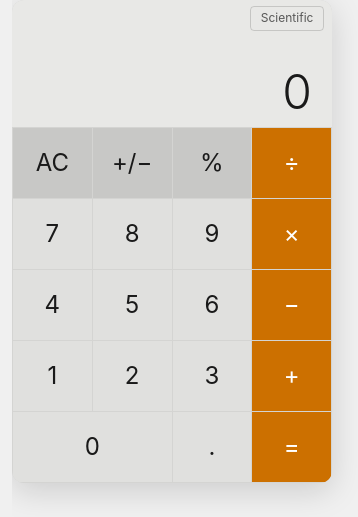
it: Calculator › digit input via clicks › starts new number with 0. when decimal pressed after operator
Click the button "5".
click(132, 305)  # box [93,270,172,340]
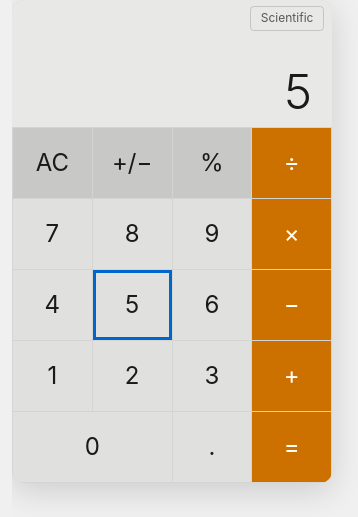
Click the button named "Add".
click(292, 376)  # box [252,341,331,411]
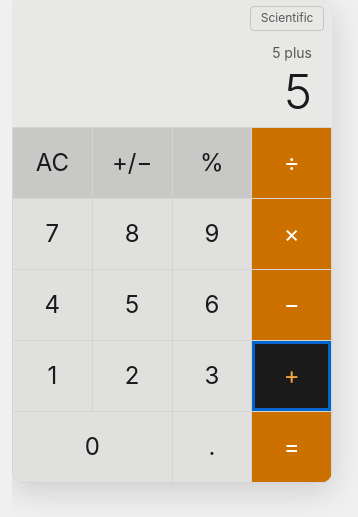
Click the button named "Decimal point".
click(212, 447)  # box [172,412,251,482]
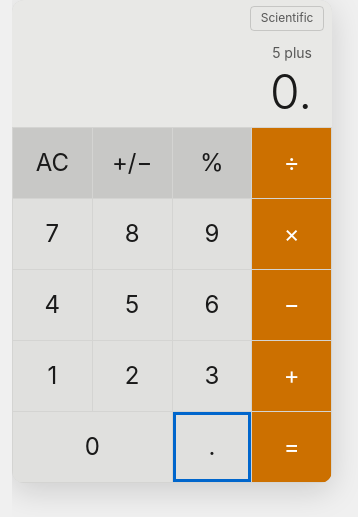
Click the button "5".
click(132, 305)  # box [93,270,172,340]
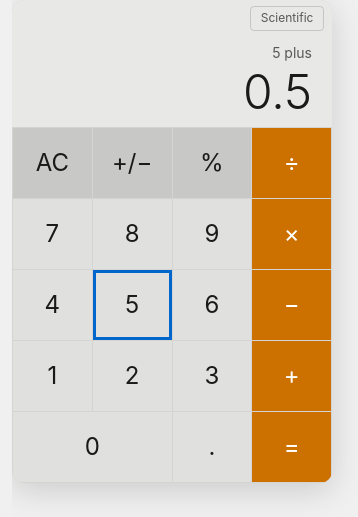
Result: the text with test id "display" reads "0.5" at [243,62,312,121]
